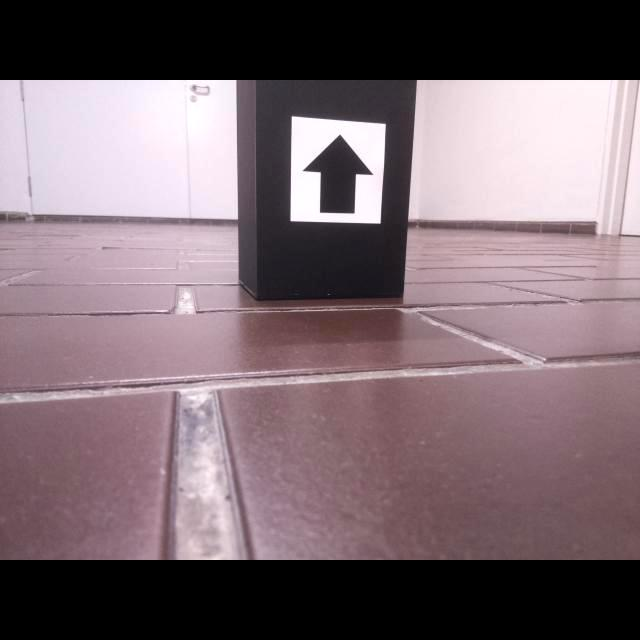UP: (301, 134, 374, 214)
